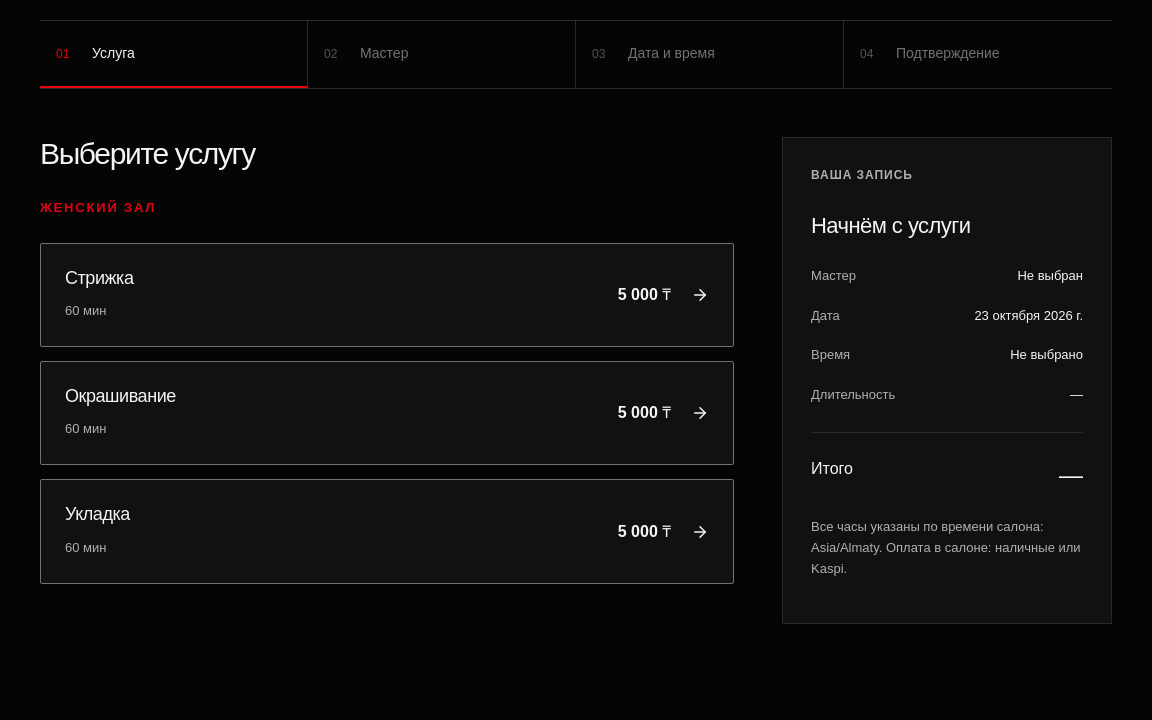
Book page: choosing a service and master › skips the master step when only one master provides the service
(page scrolled)
Click the button "Окрашивание 60 мин 5 000 ₸". click: (120, 396)
box: [40, 361, 734, 466]
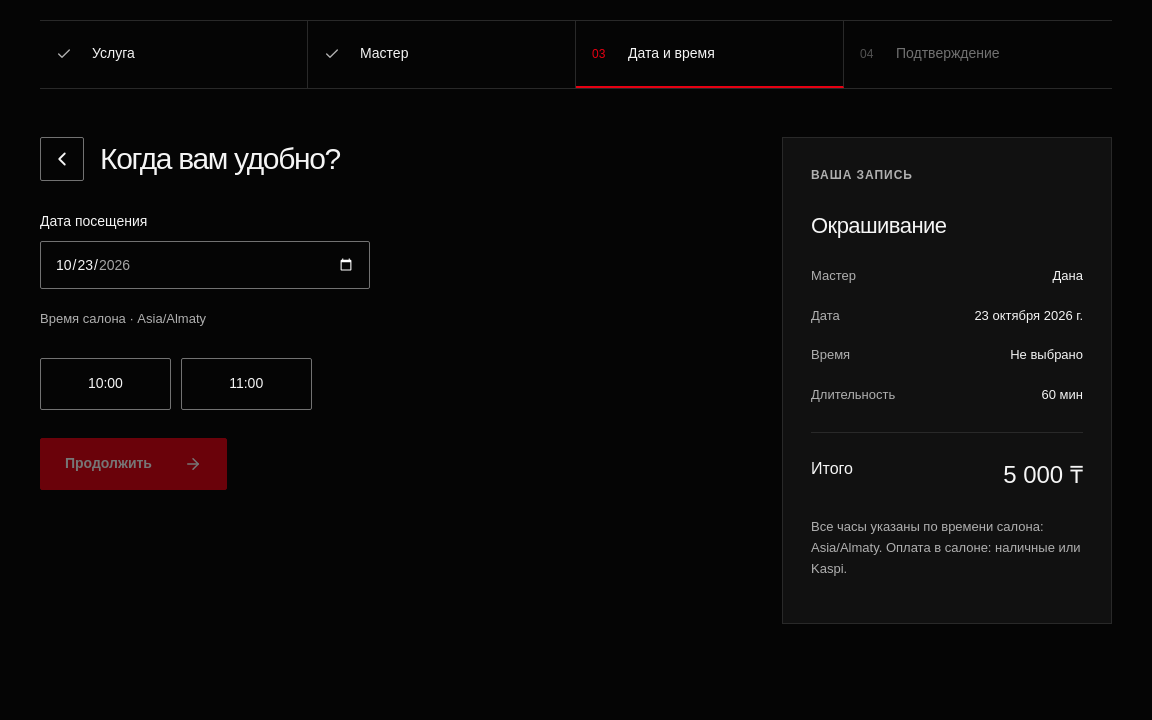
Result: the heading "Когда вам удобно?" is shown at [100, 142, 340, 176]
